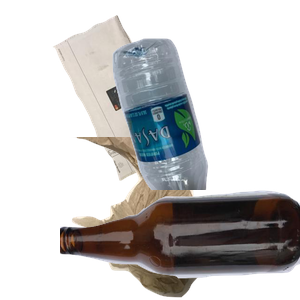glass: (60, 188, 300, 300)
paper: (51, 13, 230, 186)
plastic: (110, 36, 300, 216)
trash: (66, 137, 263, 300)
